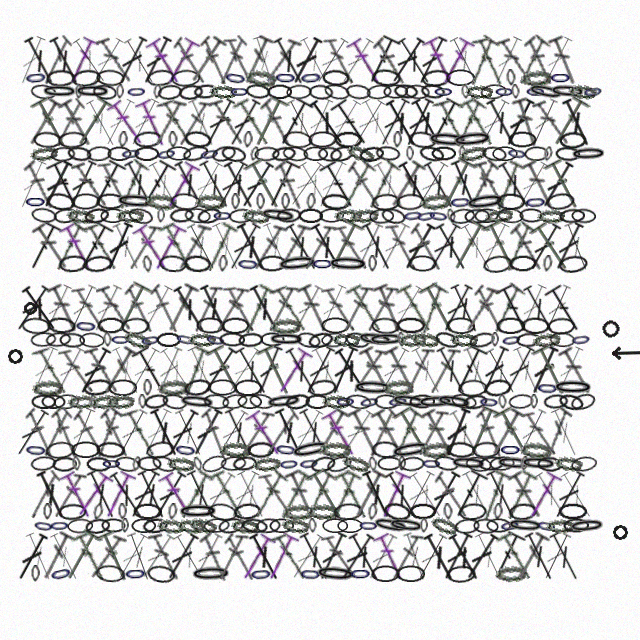chain: (289, 437, 333, 462), (389, 438, 433, 462), (464, 191, 507, 213), (451, 129, 494, 150), (276, 253, 319, 274), (426, 130, 469, 150), (314, 564, 357, 584), (526, 81, 565, 103), (371, 515, 410, 536), (115, 192, 157, 211), (435, 392, 473, 412), (327, 255, 369, 273), (352, 379, 394, 397), (190, 565, 232, 583), (259, 206, 297, 225), (356, 330, 394, 349), (265, 392, 303, 411), (390, 392, 428, 411), (387, 516, 425, 535), (552, 379, 594, 396), (177, 503, 219, 520), (345, 142, 376, 165), (382, 500, 413, 523), (429, 514, 460, 537), (419, 191, 452, 212), (178, 393, 216, 411), (568, 517, 606, 535), (122, 329, 153, 351), (145, 439, 176, 461), (207, 501, 238, 523), (200, 452, 229, 475), (45, 191, 76, 212), (545, 191, 576, 212), (82, 377, 113, 398), (495, 455, 533, 472), (506, 517, 544, 534), (245, 68, 277, 88), (520, 68, 552, 88), (420, 440, 452, 460), (325, 453, 354, 475), (183, 129, 213, 150), (458, 143, 488, 164), (183, 377, 213, 398), (483, 377, 513, 398), (341, 453, 371, 474), (549, 83, 586, 100), (450, 455, 487, 472), (520, 455, 557, 472), (407, 130, 438, 150), (482, 254, 513, 274), (307, 378, 338, 398), (45, 440, 76, 460), (433, 329, 461, 351), (150, 453, 178, 475), (181, 143, 210, 164), (145, 192, 177, 211), (157, 378, 189, 397), (382, 378, 414, 397), (495, 564, 527, 583), (71, 68, 101, 88), (421, 68, 451, 88), (83, 254, 113, 274), (558, 254, 588, 274), (146, 564, 176, 584), (570, 146, 607, 162), (417, 394, 454, 410), (282, 130, 313, 149), (170, 192, 201, 211), (95, 564, 126, 583), (210, 143, 238, 164), (328, 143, 356, 164), (569, 391, 597, 412), (146, 68, 175, 88), (282, 503, 314, 521), (371, 68, 401, 87), (133, 130, 163, 149), (29, 144, 59, 163), (484, 206, 514, 225), (58, 254, 88, 273), (158, 254, 188, 273), (46, 316, 76, 335), (90, 392, 120, 411), (333, 502, 363, 521), (508, 502, 538, 521), (188, 516, 218, 535), (323, 82, 351, 102), (468, 330, 496, 350), (557, 392, 585, 412), (309, 454, 337, 474), (270, 317, 301, 335), (32, 379, 63, 397), (520, 441, 551, 459), (41, 84, 78, 99), (74, 84, 111, 99), (268, 332, 305, 347), (368, 332, 405, 347), (183, 254, 212, 273), (371, 440, 400, 459), (233, 502, 262, 521), (458, 502, 487, 521), (48, 563, 74, 584), (220, 144, 247, 164), (418, 144, 445, 164), (371, 193, 401, 211), (127, 206, 154, 226), (380, 206, 407, 226), (21, 317, 51, 335), (295, 330, 322, 350), (307, 330, 334, 350), (344, 330, 371, 350), (446, 565, 476, 583), (30, 206, 58, 225), (221, 392, 249, 411), (450, 392, 478, 411), (217, 516, 245, 535), (195, 193, 226, 210), (220, 441, 251, 458), (320, 441, 351, 458), (307, 503, 338, 520), (46, 69, 75, 87), (96, 69, 125, 87), (171, 69, 200, 87), (33, 131, 62, 149), (58, 131, 87, 149), (321, 193, 350, 211), (396, 193, 425, 211), (66, 207, 95, 225), (121, 317, 150, 335), (371, 317, 400, 335), (532, 331, 561, 349), (458, 379, 487, 397), (96, 441, 125, 459), (446, 441, 475, 459), (252, 455, 281, 473), (58, 503, 87, 521), (83, 206, 110, 225), (196, 206, 223, 225), (143, 392, 170, 411), (161, 392, 188, 411), (248, 392, 275, 411), (284, 392, 311, 411), (433, 454, 460, 473), (322, 69, 350, 87), (559, 131, 587, 149), (547, 317, 575, 335), (247, 441, 275, 459), (472, 441, 500, 459), (570, 455, 598, 473), (223, 68, 248, 88), (173, 440, 198, 460), (446, 69, 475, 86), (568, 83, 597, 100), (308, 131, 337, 148), (508, 131, 537, 148), (71, 193, 100, 210), (96, 193, 125, 210), (496, 193, 525, 210), (350, 207, 379, 224), (258, 255, 287, 272), (408, 255, 437, 272), (196, 317, 225, 334), (221, 317, 250, 334), (321, 317, 350, 334), (396, 317, 425, 334), (446, 317, 475, 334), (496, 317, 525, 334), (521, 317, 550, 334), (398, 331, 427, 348), (411, 331, 440, 348), (108, 379, 137, 396), (208, 379, 237, 396), (67, 393, 96, 410), (106, 393, 135, 410), (71, 441, 100, 458), (554, 455, 583, 472), (133, 503, 162, 520), (558, 503, 587, 520), (281, 517, 310, 534), (371, 565, 400, 582), (396, 565, 425, 582), (30, 83, 57, 101), (66, 145, 93, 163), (282, 145, 309, 163), (358, 145, 385, 163), (481, 145, 508, 163), (449, 207, 476, 225), (345, 393, 372, 411), (462, 393, 489, 411), (465, 455, 492, 473), (84, 517, 111, 535), (241, 517, 268, 535), (334, 131, 362, 148), (509, 255, 537, 272), (97, 317, 125, 334), (234, 379, 262, 396), (409, 503, 437, 520), (92, 83, 118, 101), (157, 83, 183, 101), (178, 83, 204, 101), (345, 83, 371, 101), (366, 83, 392, 101), (271, 145, 297, 163), (114, 455, 140, 473), (454, 517, 480, 535), (480, 83, 507, 100), (184, 207, 211, 224), (497, 207, 524, 224), (30, 331, 57, 348), (45, 331, 72, 348), (549, 331, 576, 348), (53, 393, 80, 410), (203, 393, 230, 410), (30, 455, 57, 472), (220, 455, 247, 472), (478, 455, 505, 472), (203, 517, 230, 534), (24, 68, 48, 87), (299, 68, 323, 87), (274, 440, 298, 459), (242, 208, 270, 224), (537, 208, 565, 224), (167, 456, 195, 472), (157, 518, 185, 534), (177, 518, 205, 534), (231, 518, 259, 534), (546, 518, 574, 534), (193, 83, 219, 100), (245, 83, 271, 100), (393, 83, 419, 100), (420, 83, 446, 100), (86, 145, 112, 162), (375, 145, 401, 162), (53, 207, 79, 224), (169, 207, 195, 224), (276, 207, 302, 224), (508, 393, 534, 410), (543, 393, 569, 410), (232, 455, 258, 472), (489, 455, 515, 472), (142, 517, 168, 534), (255, 517, 281, 534), (174, 330, 197, 349), (228, 208, 255, 224), (236, 255, 260, 273), (74, 317, 98, 335), (24, 441, 48, 459), (249, 565, 273, 583), (209, 84, 237, 99), (465, 84, 493, 99), (116, 208, 144, 223), (334, 208, 362, 223), (188, 332, 216, 347), (332, 332, 360, 347), (450, 332, 478, 347), (322, 394, 350, 409), (286, 84, 312, 100), (308, 84, 334, 100), (404, 84, 430, 100), (50, 146, 76, 162), (254, 146, 280, 162), (317, 146, 343, 162), (464, 208, 490, 224), (559, 208, 585, 224), (59, 332, 85, 348), (79, 332, 105, 348), (321, 332, 347, 348), (399, 456, 425, 472), (67, 518, 93, 534), (473, 518, 499, 534), (155, 145, 178, 163), (198, 145, 221, 163), (449, 193, 472, 211), (524, 193, 547, 211), (415, 207, 438, 225), (427, 207, 450, 225), (139, 331, 162, 349), (204, 331, 227, 349), (500, 331, 523, 349), (536, 379, 559, 397), (358, 393, 381, 411), (32, 517, 55, 535), (535, 517, 558, 535), (299, 565, 322, 583), (555, 146, 580, 162), (369, 208, 394, 224), (571, 208, 596, 224), (238, 332, 263, 348), (516, 332, 541, 348), (52, 456, 77, 472), (86, 456, 111, 472), (537, 456, 562, 472), (274, 69, 297, 86), (549, 69, 572, 86), (24, 193, 47, 210), (311, 255, 334, 272), (499, 441, 522, 458), (124, 565, 147, 582), (349, 565, 372, 582), (492, 146, 518, 161), (100, 208, 126, 223), (219, 332, 245, 347), (409, 394, 435, 409), (322, 518, 348, 533), (337, 518, 363, 533), (563, 518, 589, 533), (267, 84, 292, 99), (383, 84, 408, 99), (107, 146, 132, 161), (134, 146, 159, 161), (166, 146, 191, 161), (303, 146, 328, 161), (431, 146, 456, 161), (524, 146, 549, 161), (298, 208, 323, 223), (319, 208, 344, 223), (474, 208, 499, 223), (519, 208, 544, 223), (156, 332, 181, 347), (260, 332, 285, 347), (31, 394, 56, 409), (41, 394, 66, 409), (237, 394, 262, 409), (305, 394, 330, 409), (374, 394, 399, 409), (137, 456, 162, 471), (377, 456, 402, 471), (101, 518, 126, 533), (131, 518, 156, 533), (269, 518, 294, 533), (486, 518, 511, 533), (582, 83, 604, 100), (120, 145, 142, 162), (506, 145, 528, 162), (402, 207, 424, 224), (570, 331, 592, 348), (387, 393, 409, 410), (298, 455, 320, 472), (499, 517, 521, 534), (478, 394, 500, 410), (278, 456, 300, 472), (126, 84, 147, 99), (229, 84, 250, 99), (433, 84, 454, 99), (494, 84, 515, 99), (525, 84, 546, 99), (212, 208, 233, 223), (110, 332, 131, 347), (335, 394, 356, 409), (101, 456, 122, 471), (421, 456, 442, 471), (49, 518, 70, 533), (358, 518, 379, 533), (92, 503, 104, 521), (142, 255, 153, 273), (367, 503, 378, 521), (192, 456, 204, 472), (542, 255, 553, 272), (167, 503, 178, 520), (249, 146, 260, 162), (446, 208, 457, 224), (131, 456, 142, 472), (506, 69, 516, 86), (118, 131, 128, 148), (168, 131, 178, 148), (243, 131, 253, 148), (306, 193, 316, 210), (218, 255, 228, 272), (443, 503, 453, 520), (493, 503, 503, 520), (543, 146, 553, 162), (89, 394, 99, 410), (368, 456, 378, 472), (393, 131, 402, 148), (231, 193, 240, 210), (256, 193, 265, 210), (281, 193, 290, 210), (368, 255, 377, 272), (143, 379, 152, 396), (43, 503, 52, 520), (118, 503, 127, 520), (31, 565, 40, 582), (458, 146, 468, 161), (153, 84, 162, 99), (461, 84, 470, 99), (511, 84, 520, 99), (103, 332, 112, 347), (397, 332, 406, 347), (138, 394, 147, 409), (498, 394, 507, 409), (72, 456, 81, 471), (520, 456, 529, 471), (308, 518, 317, 533), (75, 84, 83, 99), (116, 84, 124, 99), (406, 146, 414, 161), (157, 208, 165, 223), (491, 332, 499, 347), (530, 394, 538, 409), (398, 456, 406, 471), (121, 518, 129, 533), (420, 518, 428, 533)
double: (529, 220, 575, 274), (392, 405, 437, 460), (71, 96, 116, 150), (329, 96, 374, 150), (547, 95, 591, 150), (243, 157, 287, 212), (447, 219, 491, 274), (305, 467, 349, 522), (543, 282, 587, 336), (30, 95, 73, 150), (543, 157, 586, 212), (418, 281, 461, 336), (205, 343, 248, 398), (493, 405, 536, 460), (60, 529, 103, 584), (135, 158, 178, 212), (318, 158, 361, 212), (130, 344, 173, 398), (248, 95, 290, 150), (436, 157, 478, 212), (323, 219, 365, 274), (481, 219, 523, 274), (111, 281, 153, 336), (531, 343, 573, 398), (273, 96, 315, 150), (423, 96, 465, 150), (86, 158, 128, 212), (73, 220, 115, 274), (448, 468, 490, 522), (256, 343, 297, 398), (231, 96, 273, 149), (336, 158, 378, 211), (269, 282, 311, 335), (173, 468, 215, 521), (248, 468, 290, 521), (269, 530, 311, 583), (23, 220, 64, 274), (494, 282, 535, 336), (362, 33, 402, 88), (45, 157, 85, 212), (262, 157, 302, 212), (449, 343, 489, 398), (462, 405, 502, 460), (95, 529, 135, 584), (487, 529, 527, 584), (105, 97, 148, 148), (285, 159, 328, 210), (18, 283, 61, 334), (72, 469, 115, 520), (286, 531, 328, 583), (336, 531, 378, 583), (156, 96, 197, 149), (81, 220, 122, 273), (344, 282, 385, 335), (394, 282, 435, 335), (31, 344, 72, 397), (273, 468, 314, 521), (199, 220, 239, 274), (499, 468, 539, 522), (69, 35, 111, 86), (186, 35, 228, 86), (386, 35, 428, 86), (306, 97, 348, 148), (31, 221, 73, 272), (11, 283, 53, 334), (156, 345, 198, 396), (198, 345, 240, 396), (223, 345, 265, 396), (136, 531, 178, 582), (144, 35, 185, 87), (311, 35, 352, 87), (336, 35, 377, 87), (394, 35, 435, 87), (348, 97, 389, 149), (236, 159, 277, 211), (386, 159, 427, 211), (411, 159, 452, 211), (131, 221, 172, 273), (273, 345, 314, 397), (331, 345, 372, 397), (11, 407, 52, 459), (244, 407, 285, 459), (336, 407, 377, 459), (106, 469, 147, 521), (198, 469, 239, 521), (406, 469, 447, 521), (531, 469, 572, 521), (461, 531, 502, 583), (512, 34, 552, 87), (457, 96, 497, 149), (362, 158, 402, 211), (49, 220, 89, 273), (487, 282, 527, 335), (120, 406, 160, 459), (207, 468, 247, 521), (299, 468, 339, 521), (495, 530, 535, 583), (432, 96, 471, 150), (449, 96, 488, 150), (112, 158, 151, 212), (157, 220, 196, 274), (499, 220, 538, 274), (237, 282, 276, 336), (387, 406, 426, 460), (324, 468, 363, 522), (332, 468, 371, 522), (70, 530, 109, 584), (87, 35, 127, 87), (120, 35, 160, 87), (345, 35, 385, 87), (24, 97, 64, 149), (57, 97, 97, 149), (224, 97, 264, 149), (324, 97, 364, 149), (295, 159, 335, 211), (495, 159, 535, 211), (512, 159, 552, 211), (537, 159, 577, 211), (224, 221, 264, 273), (282, 221, 322, 273), (307, 221, 347, 273), (399, 221, 439, 273), (424, 221, 464, 273), (457, 221, 497, 273), (524, 221, 564, 273), (170, 283, 210, 335), (387, 283, 427, 335), (74, 345, 114, 397), (99, 345, 139, 397), (232, 345, 272, 397), (282, 345, 322, 397), (557, 345, 597, 397), (162, 407, 202, 459), (212, 407, 252, 459), (287, 407, 327, 459), (320, 407, 360, 459), (445, 407, 485, 459), (149, 469, 189, 521), (157, 469, 197, 521), (382, 469, 422, 521), (507, 469, 547, 521), (557, 469, 597, 521), (112, 531, 152, 583), (162, 531, 202, 583), (170, 531, 210, 583), (237, 531, 277, 583), (463, 34, 501, 88), (488, 158, 526, 212), (162, 35, 201, 87), (270, 35, 309, 87), (287, 35, 326, 87), (437, 35, 476, 87), (82, 97, 121, 149), (382, 97, 421, 149), (474, 97, 513, 149), (145, 159, 184, 211), (162, 159, 201, 211), (187, 159, 226, 211), (212, 159, 251, 211), (220, 159, 259, 211), (370, 159, 409, 211), (395, 159, 434, 211), (420, 159, 459, 211), (149, 221, 188, 273), (432, 221, 471, 273), (137, 283, 176, 335), (520, 283, 559, 335), (124, 345, 163, 397), (374, 345, 413, 397), (482, 345, 521, 397), (312, 407, 351, 459), (370, 407, 409, 459), (420, 407, 459, 459), (487, 407, 526, 459), (424, 469, 463, 521), (524, 469, 563, 521), (549, 469, 588, 521), (12, 531, 51, 583), (245, 531, 284, 583), (345, 531, 384, 583), (362, 531, 401, 583), (412, 531, 451, 583), (420, 531, 459, 583), (445, 531, 484, 583), (512, 531, 551, 583), (21, 34, 59, 87), (46, 34, 84, 87), (113, 34, 151, 87), (296, 34, 334, 87), (446, 34, 484, 87), (538, 34, 576, 87), (100, 96, 138, 149), (125, 96, 163, 149), (200, 96, 238, 149), (283, 96, 321, 149), (358, 96, 396, 149), (375, 96, 413, 149), (408, 96, 446, 149), (483, 96, 521, 149), (500, 96, 538, 149), (38, 158, 76, 211), (121, 158, 159, 211), (171, 158, 209, 211), (196, 158, 234, 211), (521, 158, 559, 211), (58, 220, 96, 273), (183, 220, 221, 273), (233, 220, 271, 273), (358, 220, 396, 273), (375, 220, 413, 273), (475, 220, 513, 273), (246, 282, 284, 335), (288, 282, 326, 335), (438, 282, 476, 335), (50, 344, 88, 397), (300, 344, 338, 397), (308, 344, 346, 397), (358, 344, 396, 397), (383, 344, 421, 397), (408, 344, 446, 397), (433, 344, 471, 397), (500, 344, 538, 397), (113, 406, 151, 459), (188, 406, 226, 459), (296, 406, 334, 459), (346, 406, 384, 459), (58, 468, 96, 521), (125, 468, 163, 521), (225, 468, 263, 521), (350, 468, 388, 521), (400, 468, 438, 521), (458, 468, 496, 521), (46, 530, 84, 583), (188, 530, 226, 583), (296, 530, 334, 583), (438, 530, 476, 583), (546, 530, 584, 583), (471, 34, 508, 88), (475, 468, 512, 522), (138, 34, 175, 87), (413, 34, 450, 87), (421, 34, 458, 87), (400, 96, 437, 149), (63, 158, 100, 211), (313, 158, 350, 211), (108, 220, 145, 273), (208, 220, 245, 273), (350, 220, 387, 273), (550, 220, 587, 273), (46, 282, 83, 335), (88, 282, 125, 335), (163, 282, 200, 335), (196, 282, 233, 335), (296, 282, 333, 335), (108, 344, 145, 397), (138, 406, 175, 459), (146, 406, 183, 459), (171, 406, 208, 459), (221, 406, 258, 459), (271, 406, 308, 459), (513, 406, 550, 459), (33, 468, 70, 521), (83, 468, 120, 521), (100, 468, 137, 521), (183, 468, 220, 521), (233, 468, 270, 521), (358, 468, 395, 521), (483, 468, 520, 521), (38, 530, 75, 583), (263, 530, 300, 583), (471, 530, 508, 583), (521, 530, 558, 583), (538, 530, 575, 583), (262, 36, 302, 85), (87, 532, 127, 581), (532, 98, 571, 148), (462, 284, 501, 334), (414, 282, 450, 336), (176, 344, 212, 398), (345, 160, 384, 209), (262, 408, 301, 457), (432, 470, 471, 519), (64, 34, 100, 87), (239, 34, 275, 87), (489, 34, 525, 87), (134, 96, 170, 149), (184, 96, 220, 149), (301, 96, 337, 149), (526, 96, 562, 149), (559, 96, 595, 149), (14, 158, 50, 211), (39, 282, 75, 335), (64, 282, 100, 335), (314, 282, 350, 335), (447, 282, 483, 335), (514, 282, 550, 335), (539, 282, 575, 335), (184, 344, 220, 397), (476, 344, 512, 397), (509, 344, 545, 397), (526, 344, 562, 397), (551, 344, 587, 397), (547, 406, 583, 459), (134, 468, 170, 521), (284, 468, 320, 521), (376, 468, 412, 521), (314, 530, 350, 583), (372, 530, 408, 583), (371, 36, 409, 86), (496, 36, 534, 86), (71, 160, 109, 210), (250, 222, 288, 272), (508, 222, 546, 272), (521, 408, 559, 458), (258, 470, 296, 520), (96, 35, 133, 86), (258, 97, 295, 148), (463, 159, 500, 210), (175, 221, 212, 272), (275, 221, 312, 272), (96, 283, 133, 334), (171, 36, 209, 85), (58, 346, 96, 395), (350, 346, 388, 395), (321, 532, 359, 581), (14, 34, 49, 87), (547, 34, 582, 87), (447, 158, 482, 211), (101, 220, 136, 273), (259, 220, 294, 273), (372, 282, 407, 335), (26, 344, 61, 397), (151, 344, 186, 397), (326, 344, 361, 397), (459, 344, 494, 397), (22, 530, 57, 583), (333, 222, 370, 272), (408, 222, 445, 272), (71, 284, 108, 334), (213, 284, 250, 334), (321, 284, 358, 334), (71, 408, 108, 458), (238, 408, 275, 458), (151, 97, 187, 148), (209, 97, 245, 148), (84, 345, 120, 396), (560, 220, 594, 273), (252, 344, 286, 397), (65, 406, 99, 459), (440, 406, 474, 459), (51, 98, 87, 148), (176, 98, 212, 148), (126, 222, 162, 272), (301, 222, 337, 272), (26, 470, 62, 520), (51, 470, 87, 520), (222, 532, 258, 582), (39, 35, 74, 86), (522, 35, 557, 86), (22, 159, 57, 210), (97, 159, 132, 210), (122, 283, 157, 334), (364, 283, 399, 334), (39, 407, 74, 458), (389, 531, 424, 582), (90, 407, 124, 459), (472, 284, 507, 334), (123, 530, 156, 583), (215, 35, 249, 86), (323, 35, 357, 86), (473, 159, 507, 210), (385, 221, 419, 272), (148, 283, 182, 334), (223, 283, 257, 334), (265, 283, 299, 334), (340, 283, 374, 334), (427, 345, 461, 396), (23, 407, 57, 458), (98, 407, 132, 458), (365, 407, 399, 458), (415, 407, 449, 458), (215, 531, 249, 582), (273, 159, 306, 211), (540, 407, 573, 459), (148, 531, 181, 583), (198, 531, 231, 583), (511, 96, 543, 149), (399, 530, 431, 583), (198, 35, 231, 86), (223, 35, 256, 86), (402, 345, 435, 396), (249, 34, 280, 87), (191, 283, 223, 334), (49, 407, 81, 458), (474, 407, 506, 458), (199, 407, 230, 459)
noise: (599, 317, 622, 340), (609, 344, 640, 361), (611, 523, 629, 541), (6, 347, 24, 365), (23, 301, 38, 316)
